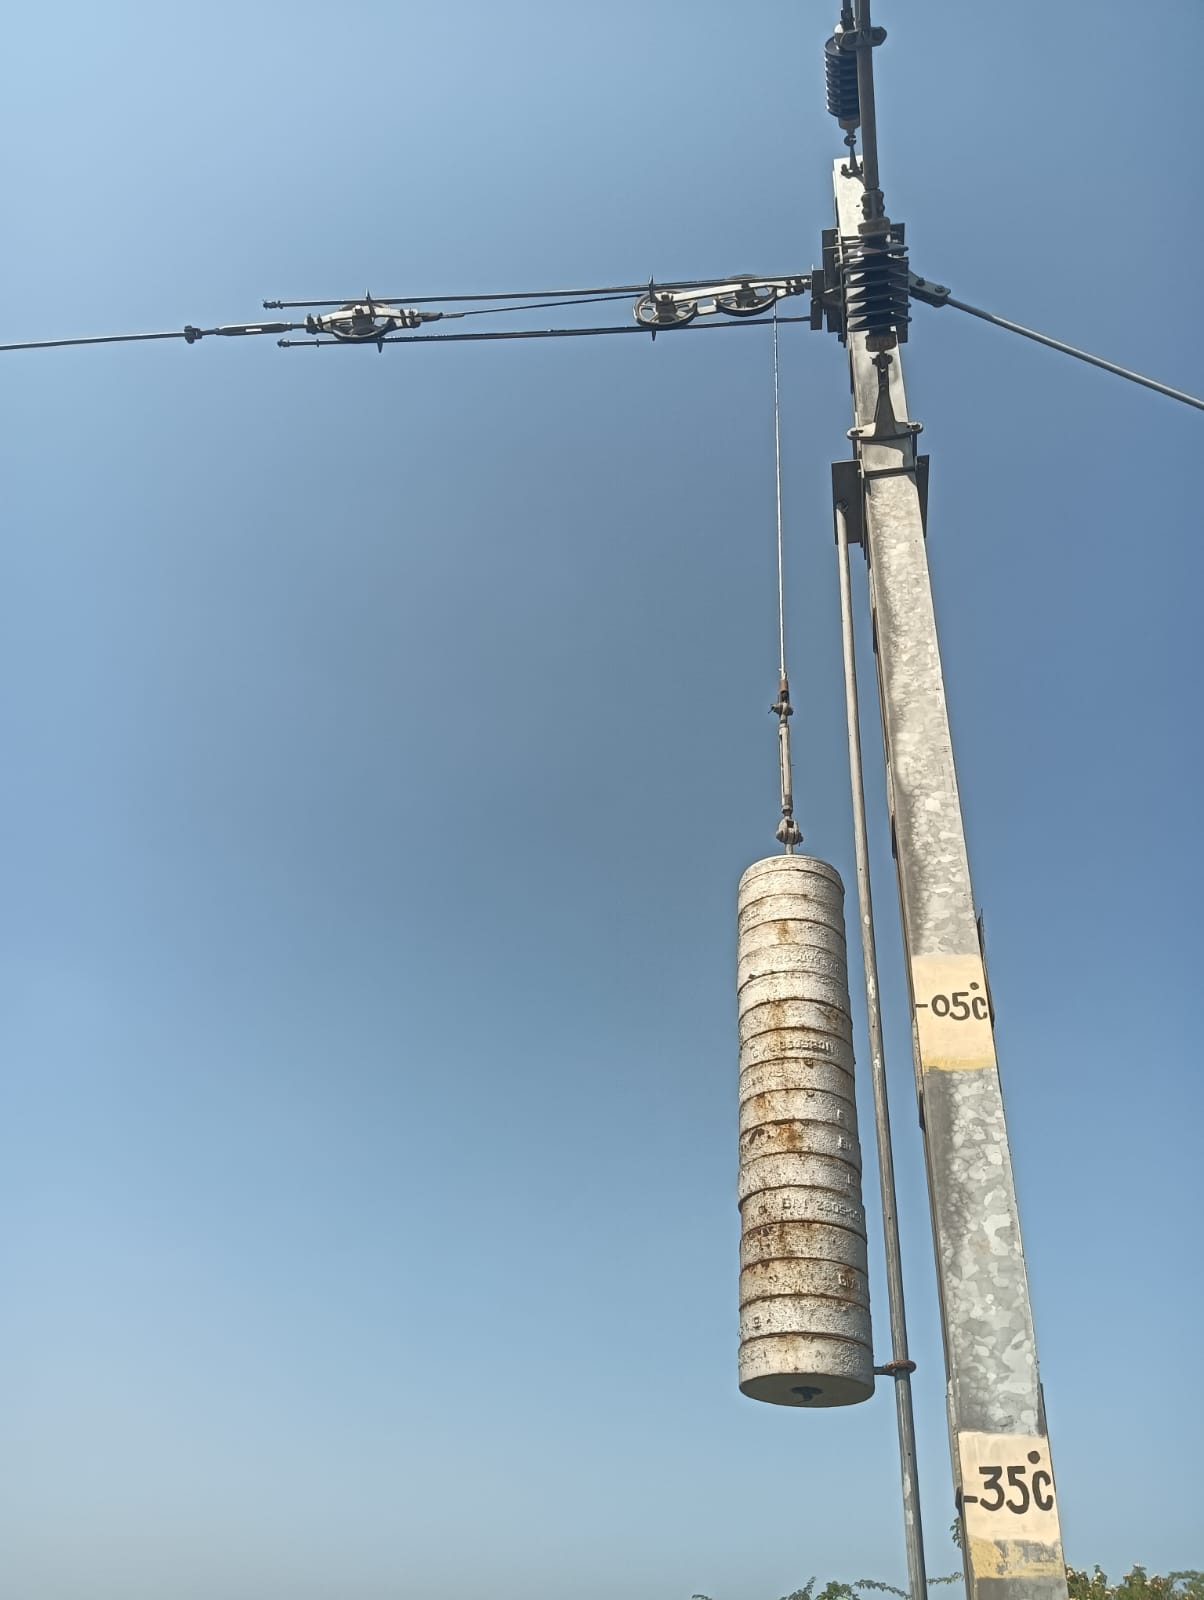Pulley: (306, 291, 403, 347), (637, 268, 706, 333)
objectA: (814, 164, 954, 1600), (726, 818, 856, 1415), (846, 211, 923, 357), (812, 24, 873, 142), (717, 268, 785, 324)
